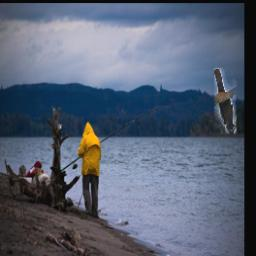Crow: (215, 69, 238, 135)
